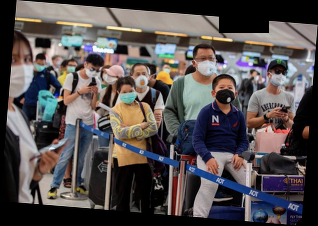with_mask: (11, 52, 36, 99), (197, 53, 217, 78), (215, 83, 237, 105), (270, 67, 288, 89), (119, 87, 137, 105), (133, 70, 150, 89), (84, 65, 101, 79), (103, 72, 118, 87), (34, 61, 46, 73), (65, 63, 78, 74), (162, 65, 171, 75), (55, 58, 62, 66)
